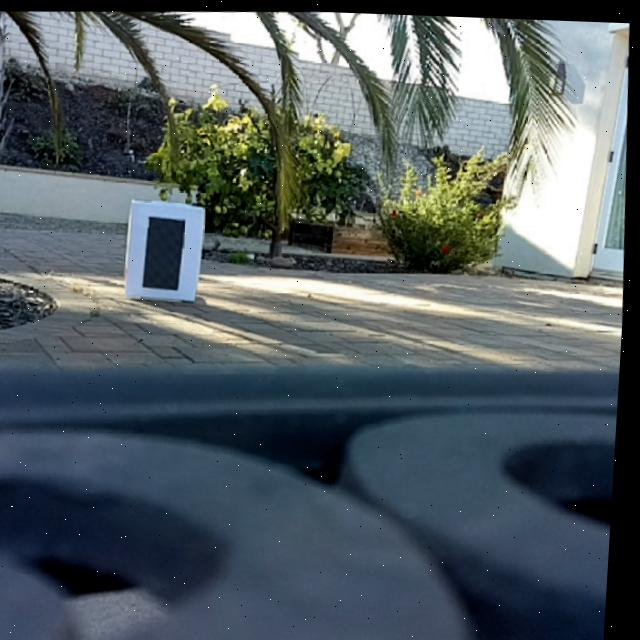led: (143, 214, 190, 293)
